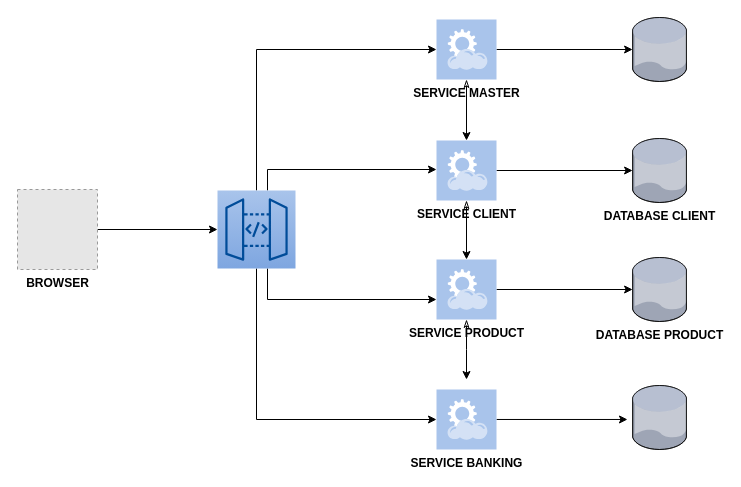
The diagram is 741 pixels wide and 487 high, and some of its shapes have lost their labels. Grey dashed boxes stand in for pictures. Here are the shapes that lost their labels. From the top down, the box of each, then its label:
(632, 17, 686, 81): DATABASE MASTER
(216, 190, 296, 268): API GATEWAY
(632, 385, 686, 449): DATABASE BANKING
